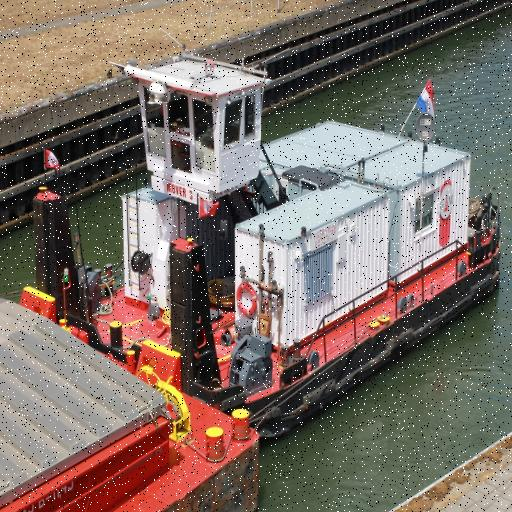tugboat: (29, 47, 507, 451)
